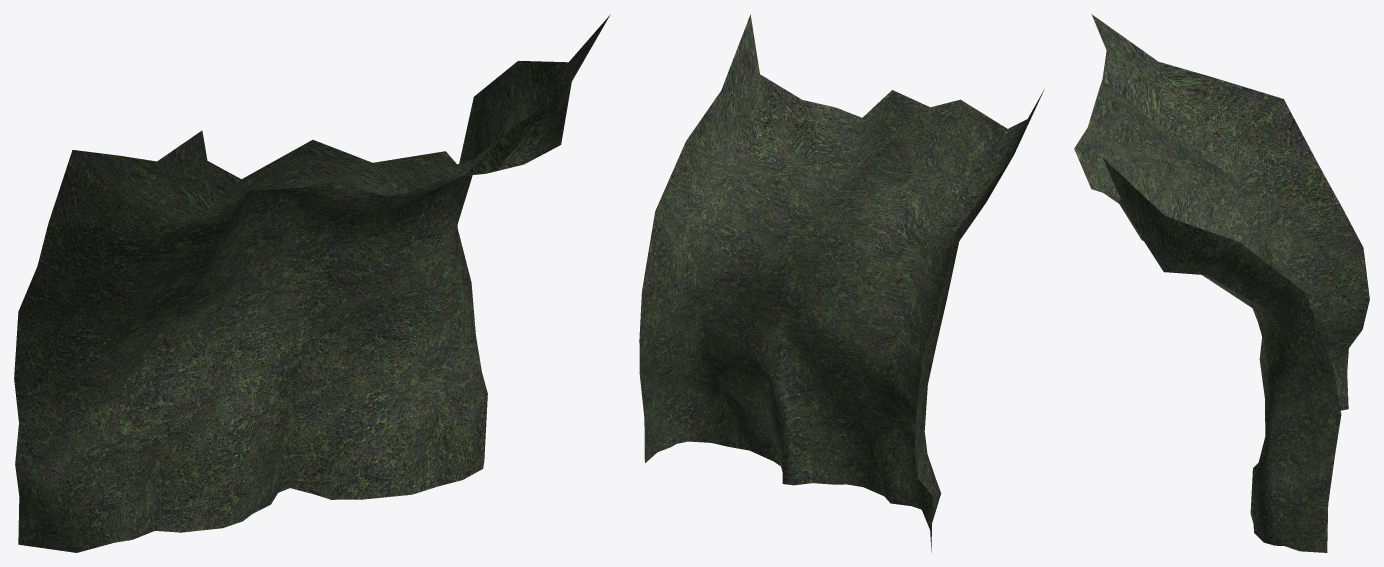
File: cliff_wall_01.fbx
3 renders of one model, left to right at view 1: azimuth 30°, elevation 25°; view 2: azimuth 150°, elevation 25°; view 3: azimuth 270°, elevation 25°, orthographic. The views are drawn at different scales.
Parts seen in each view (by area): view 1: cliff_wall_01; view 2: cliff_wall_01; view 3: cliff_wall_01.
Part boxes in pixels (x1,y1,x2,y2): cliff_wall_01: (14,14,610,552); cliff_wall_01: (639,14,1044,552); cliff_wall_01: (1074,14,1369,552).
Bounding box in the file's own units: 79.78 × 96.76 × 63.94.
